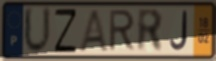A: (77, 8, 111, 54)
J: (168, 9, 189, 53)
R: (107, 9, 137, 54), (137, 7, 165, 54)
U: (23, 5, 53, 56)
Z: (53, 7, 78, 55)
